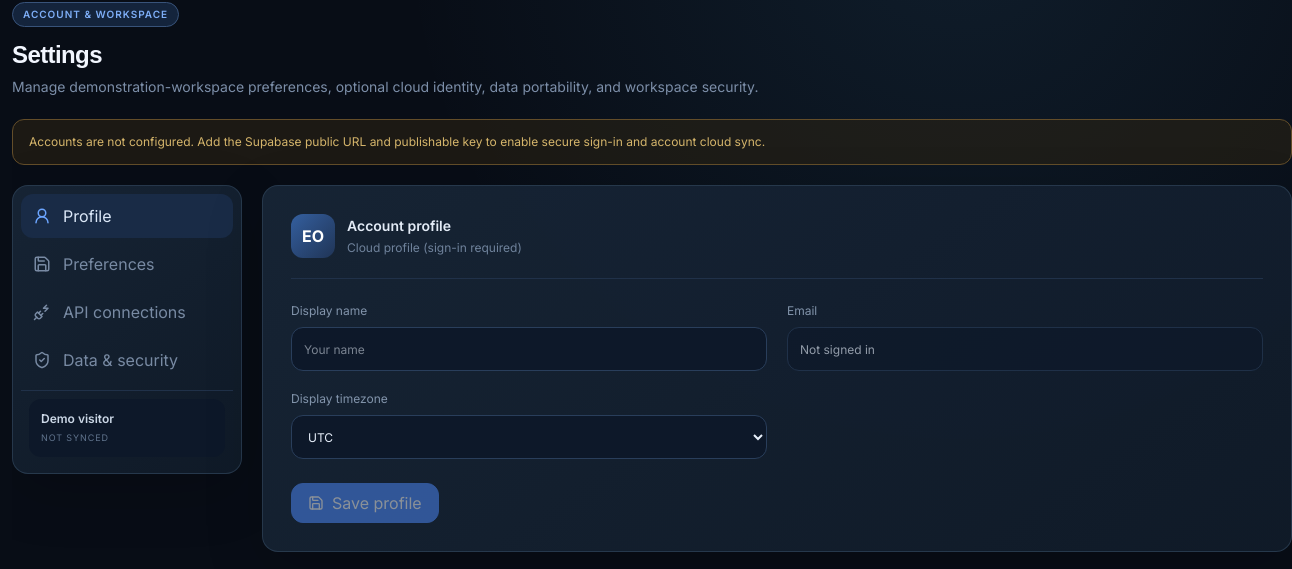
Test: desktop local preferences › does not describe an ordinary demo API workspace as device-local persistence
The width and height of the screenshot is (1292, 569).
Click the button "Preferences": {"x": 127, "y": 264} [21, 242, 233, 286]
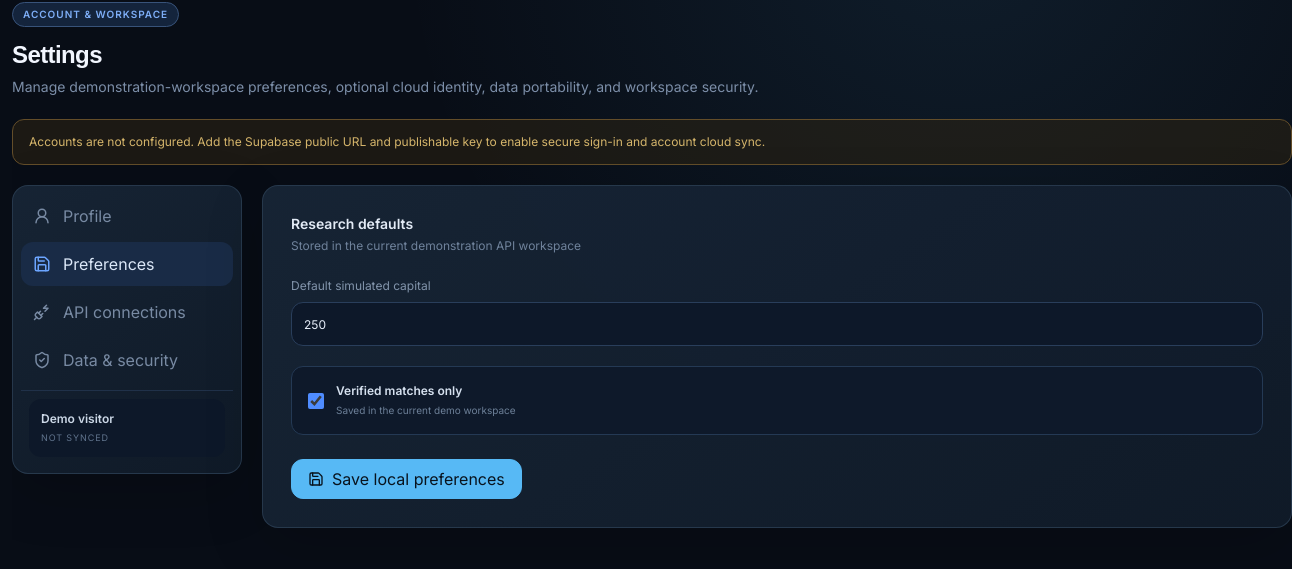
Expected: the text "Stored in the current demonstration API workspace" is shown, [291, 238, 581, 253]
